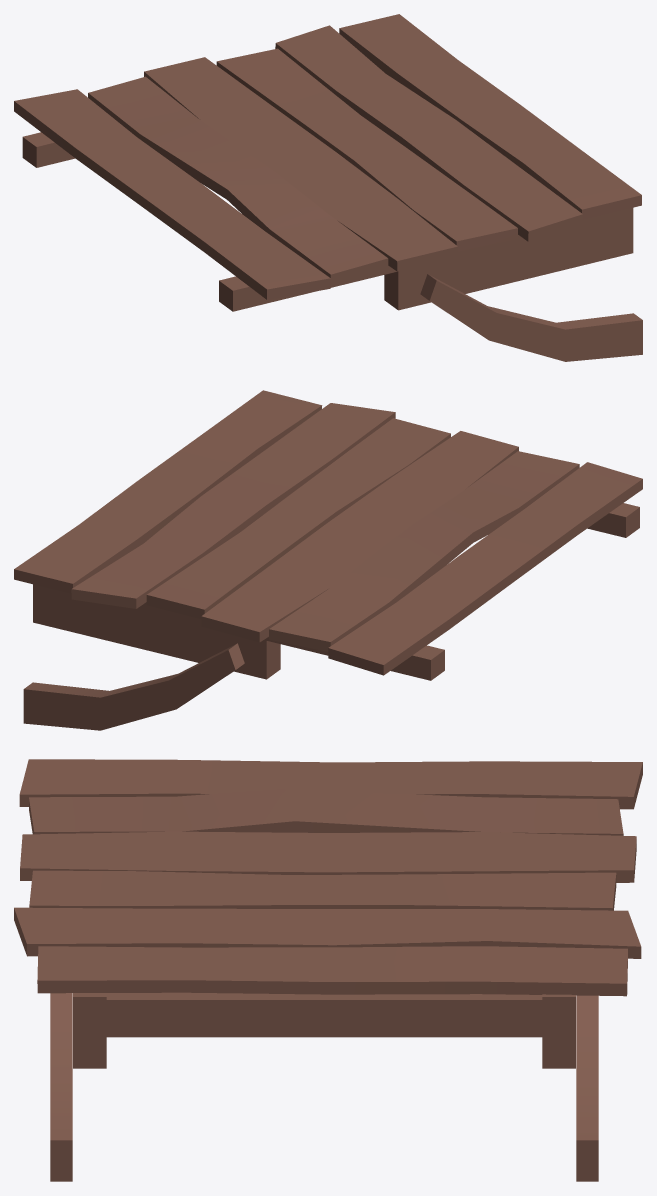
File: WoodenSupport01.fbx
3 views of the same model, one above another, from view 1: azimuth 30°, elevation 25°; view 2: azimuth 150°, elevation 25°; view 3: azimuth 270°, elevation 25° (orthographic). The views are drawn at different scales.
Visible parts, largest first — view 1: wooden_support_1_LOD0; view 2: wooden_support_1_LOD0; view 3: wooden_support_1_LOD0.
Part boxes in pixels (box(x1,y1,x2,y2)): wooden_support_1_LOD0: box(14, 14, 642, 361); wooden_support_1_LOD0: box(14, 390, 642, 730); wooden_support_1_LOD0: box(14, 759, 642, 1181).
Size of what is drawn, in the model's own units: 200 by 82.64 by 228.
